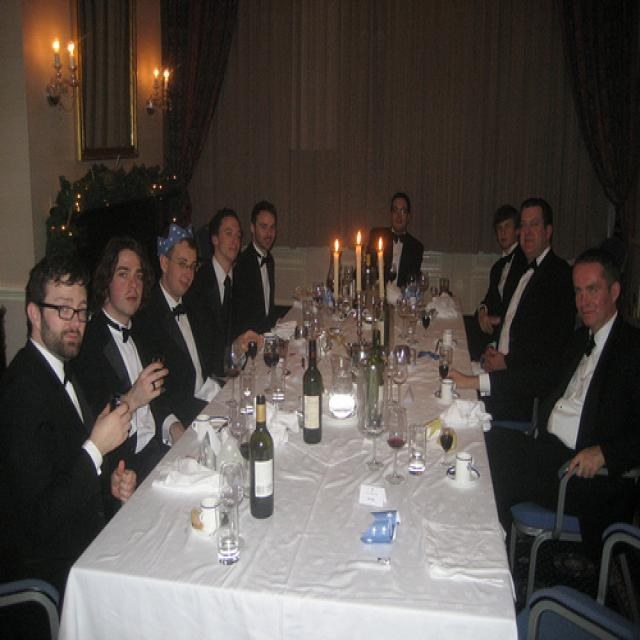chair: (509, 457, 640, 602), (516, 522, 640, 640), (0, 577, 61, 639), (489, 391, 540, 434)
dining table: (76, 296, 516, 623)
